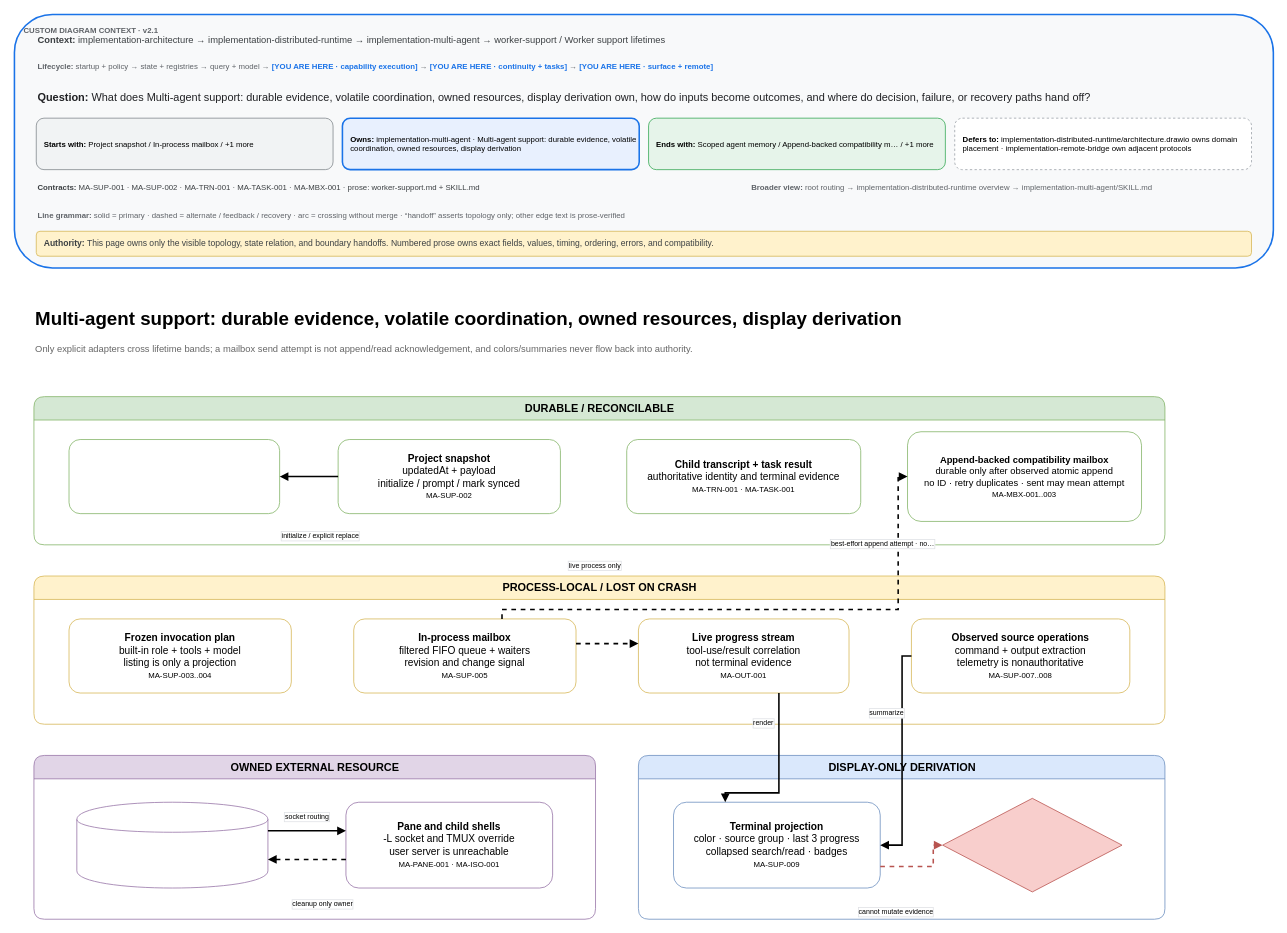
Image size: 1287x933. Some labels were removed from this diagram. Here are the shapes that lost their labels. From the top down, the centre of each, then its label:
At [174,476]: "Scoped agent memory user · project · local agent type namespace MA-SUP-001".
At [172,844]: "Process tmux server socket agentx-{pid} actual path + server PID MA-SUP-006".
At [1032,845]: "No semantic backflow hidden or collapsed ≠ deleted quiet UI ≠ completed worker".
